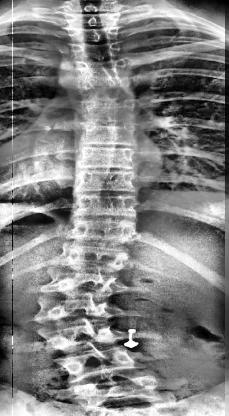Vertebrae: (32, 298, 126, 332), (47, 271, 129, 303), (57, 348, 144, 378), (54, 244, 134, 276), (41, 326, 126, 354), (70, 97, 138, 127), (72, 73, 136, 103), (70, 193, 142, 219), (66, 220, 142, 244), (76, 170, 140, 198), (75, 123, 138, 151), (76, 147, 138, 175), (72, 56, 132, 82), (68, 41, 130, 63), (64, 24, 122, 44)
